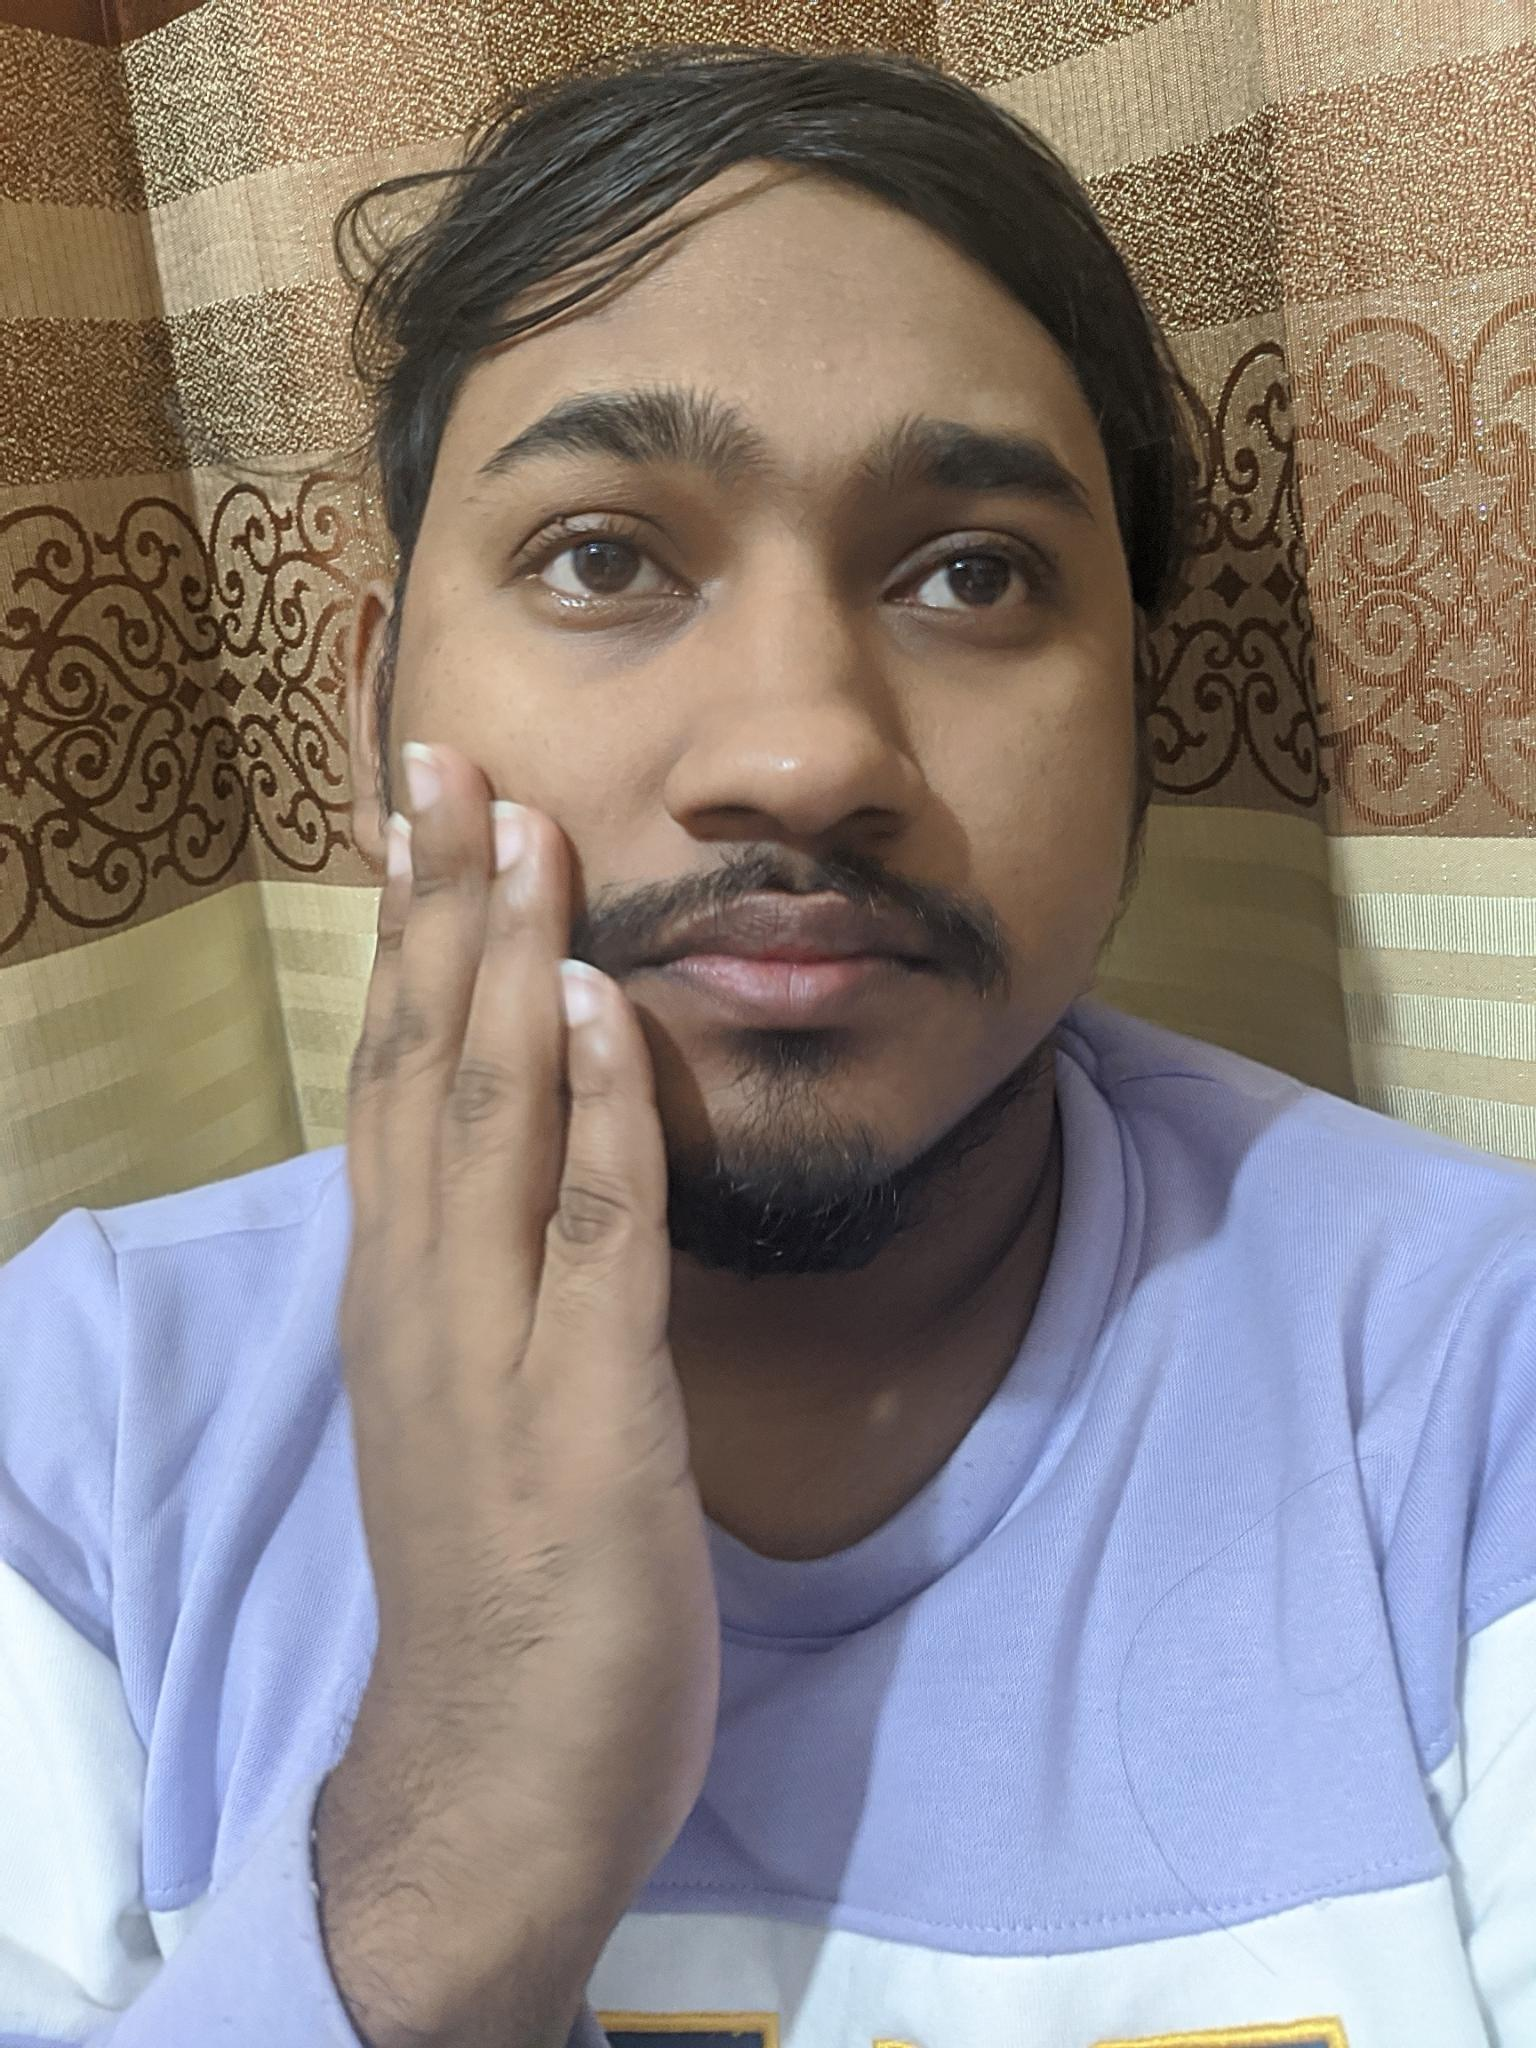Neutral: (423, 361, 1141, 1164)
